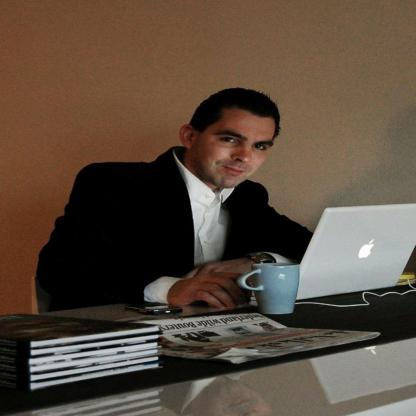board: (246, 201, 413, 298)
